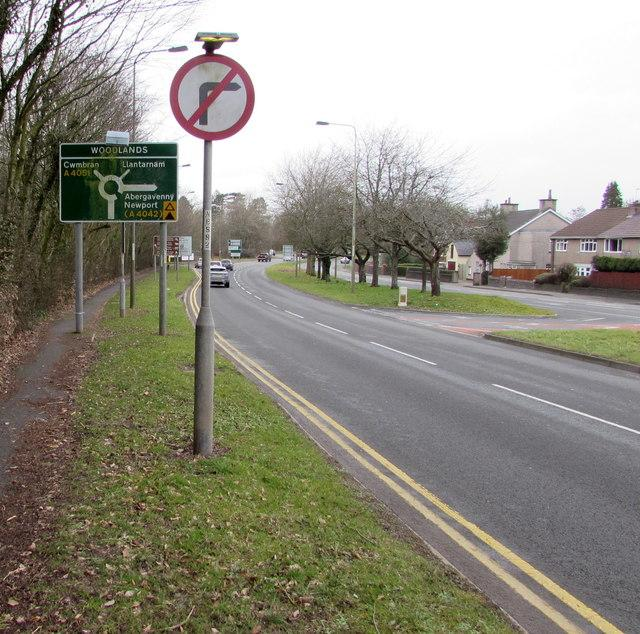no_right_turn: (168, 54, 254, 140)
